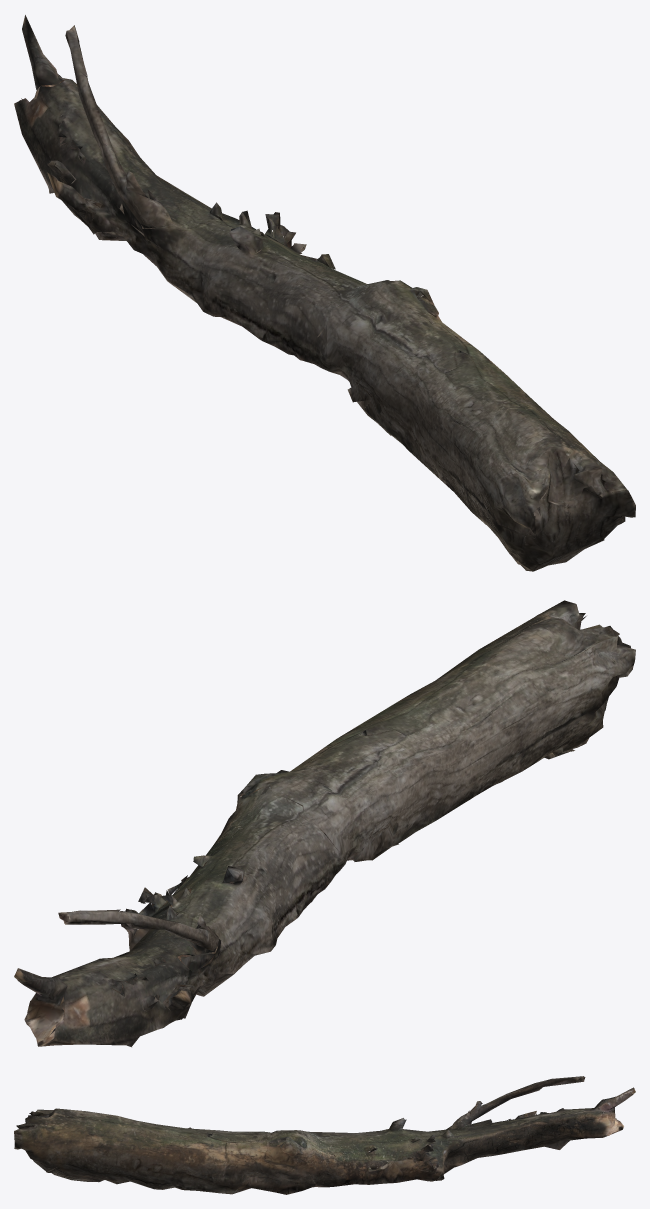
Rendered from branch_02.glb.
3 renders of one model, top to bottom at view 1: azimuth 30°, elevation 25°; view 2: azimuth 150°, elevation 25°; view 3: azimuth 270°, elevation 25°, orthographic. The views are drawn at different scales.
Parts seen in each view (by area): view 1: branch_02; view 2: branch_02; view 3: branch_02.
Boxes of the visible parts, left/top/right/bottom form: branch_02: left=14, top=15, right=635, bottom=571; branch_02: left=14, top=600, right=635, bottom=1047; branch_02: left=14, top=1076, right=635, bottom=1194.
Bounding box in the file's own units: 0.129 × 0.143 × 0.7801.
1 material, 1 textured.
